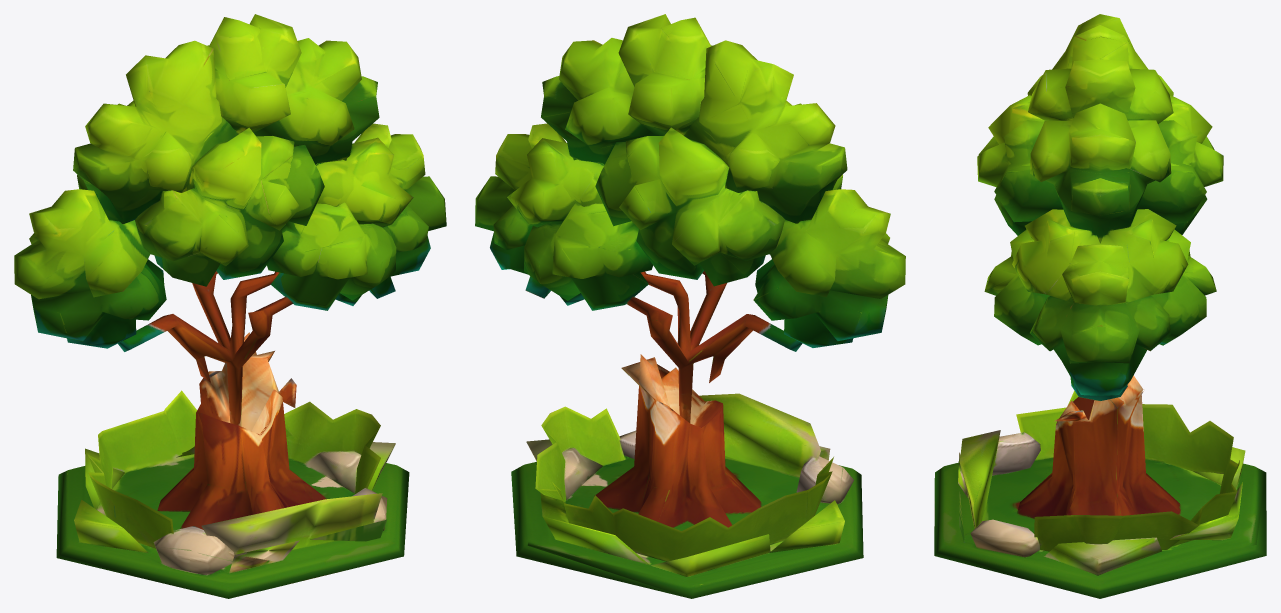
File: etapa75.glb
3 renders of one model, left to right at view 1: azimuth 30°, elevation 25°; view 2: azimuth 150°, elevation 25°; view 3: azimuth 270°, elevation 25°, orthographic. The views are drawn at different scales.
Bounding box in the file's own units: 0.9126 × 1 × 0.6262.
1 material, 1 textured.
